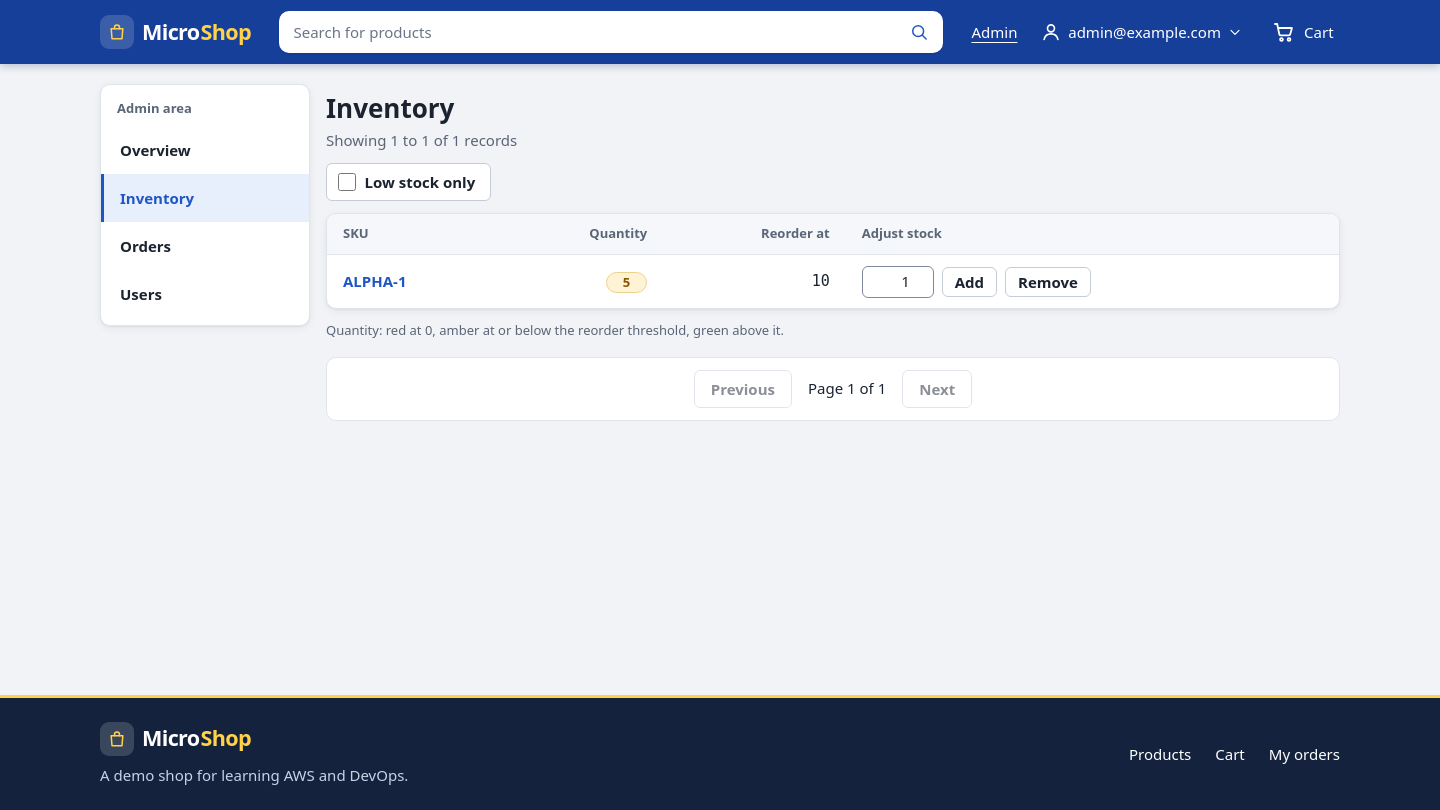
Test case: App routes for login › after a 401 on a change: forgets the login, shows the login page, then returns to the page after logging in again
The width and height of the screenshot is (1440, 810).
Click the button "Add" at (969, 282), box [942,267,997,297]
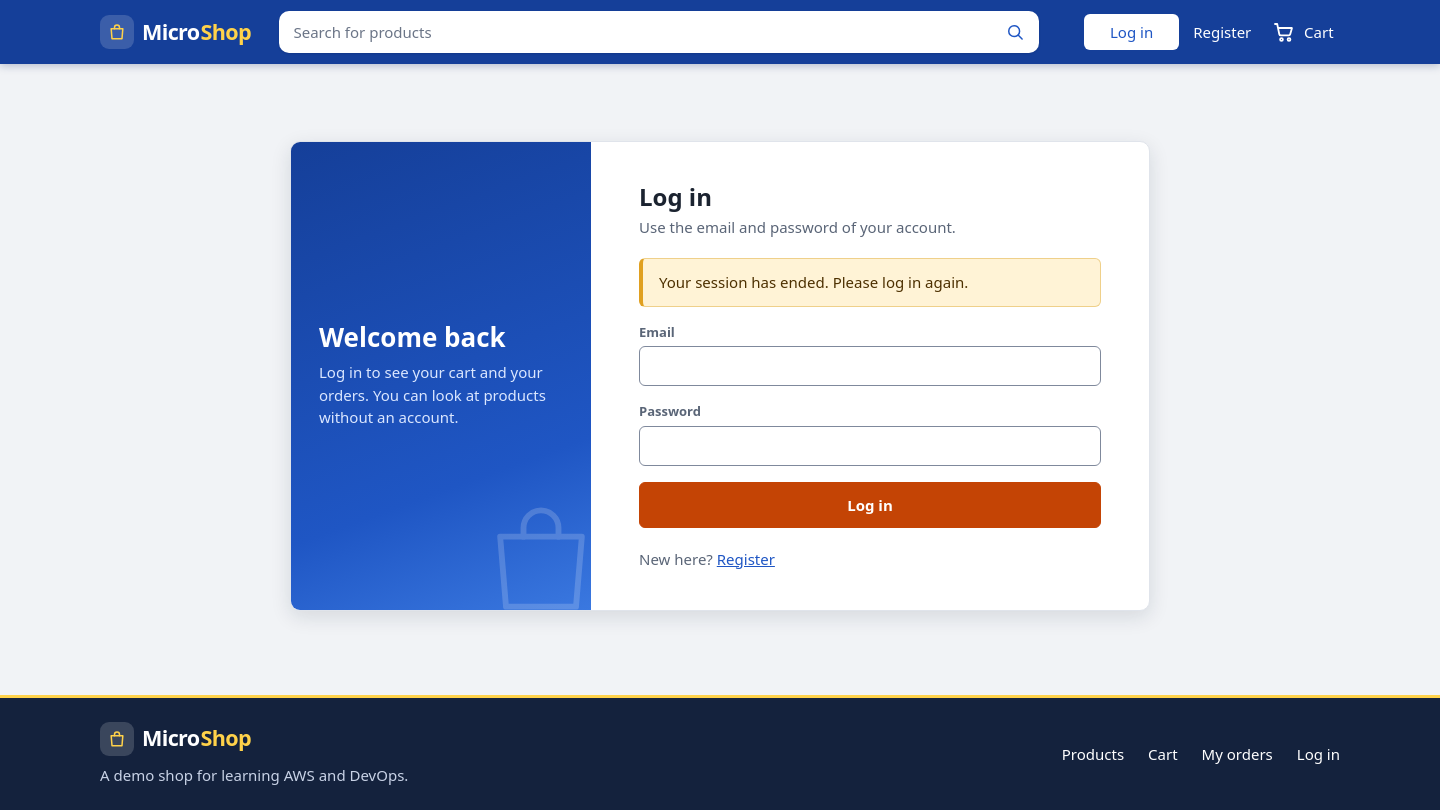
Now the heading "Log in" is shown, box [639,180,712,213]
Now the message reads "Your session has ended. Please log in again.", box [659,272,968,292]
Now the 1st link "Log in" is shown, box [1084,14,1179,50]
Type "admin@example.com" into the field labelled "Email" at (870, 366), box [639,346,1101,386]
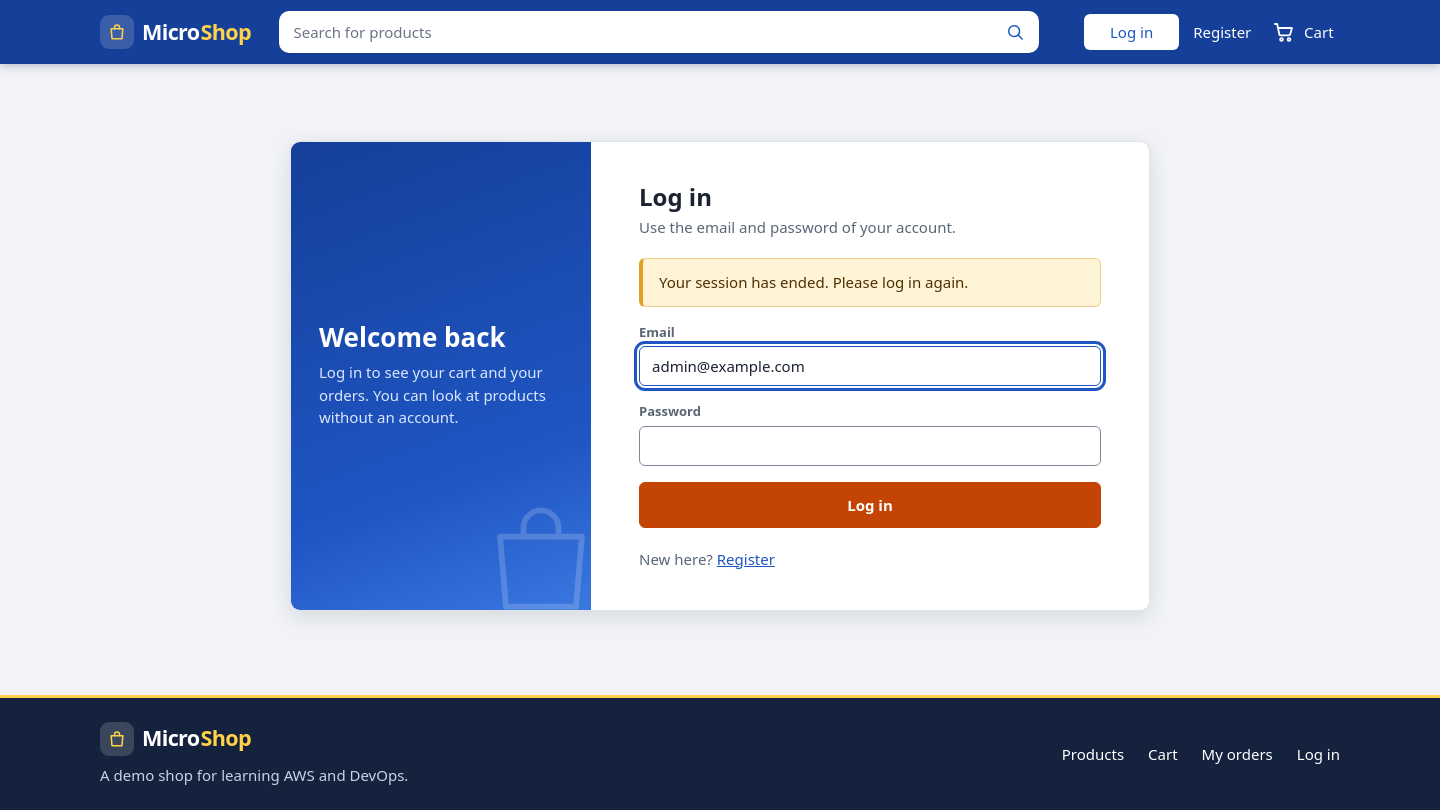
Type "admin12345" into the password field labelled "Password" at (870, 446), box [639,426,1101,466]
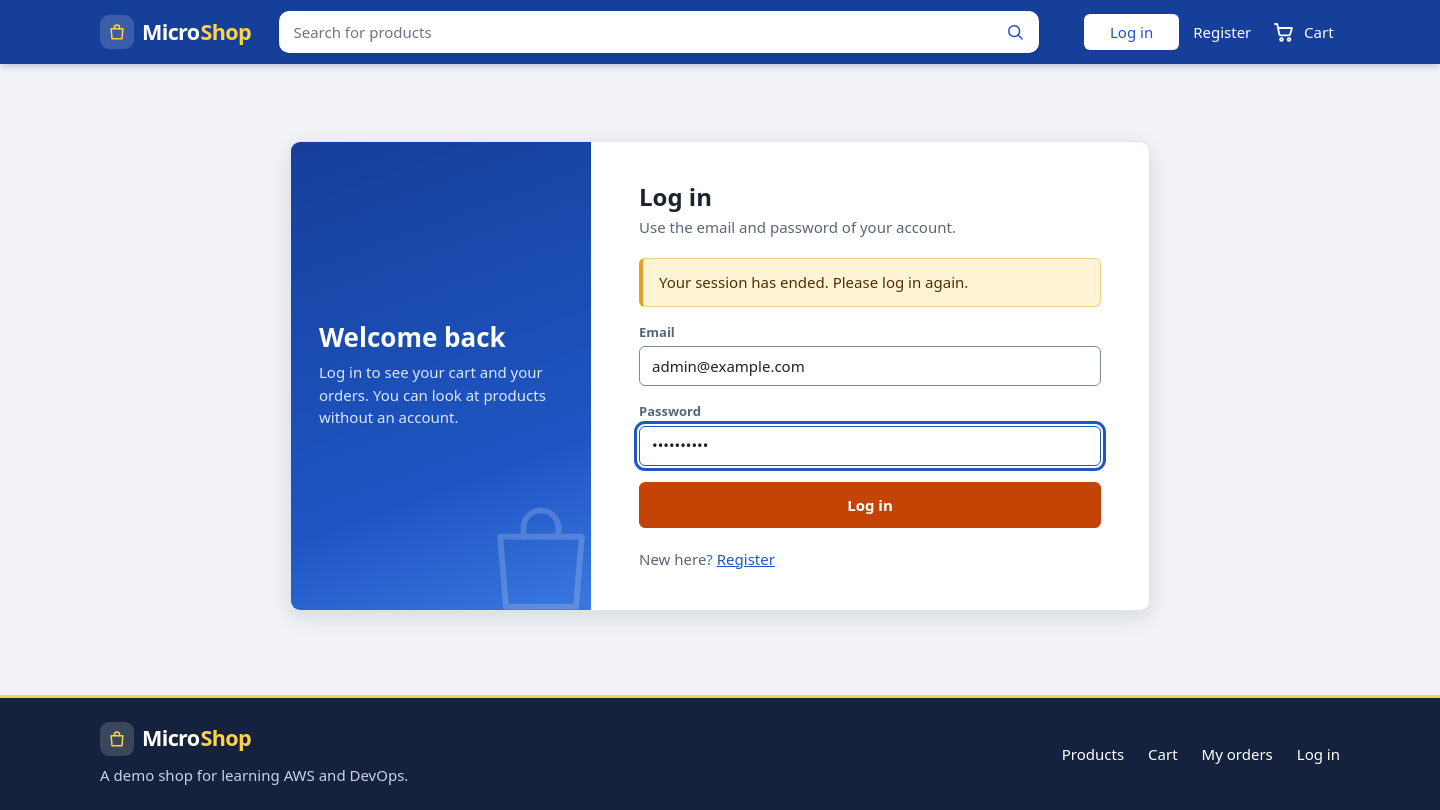
Click the button "Log in" at (870, 505), box [639,482,1101,528]
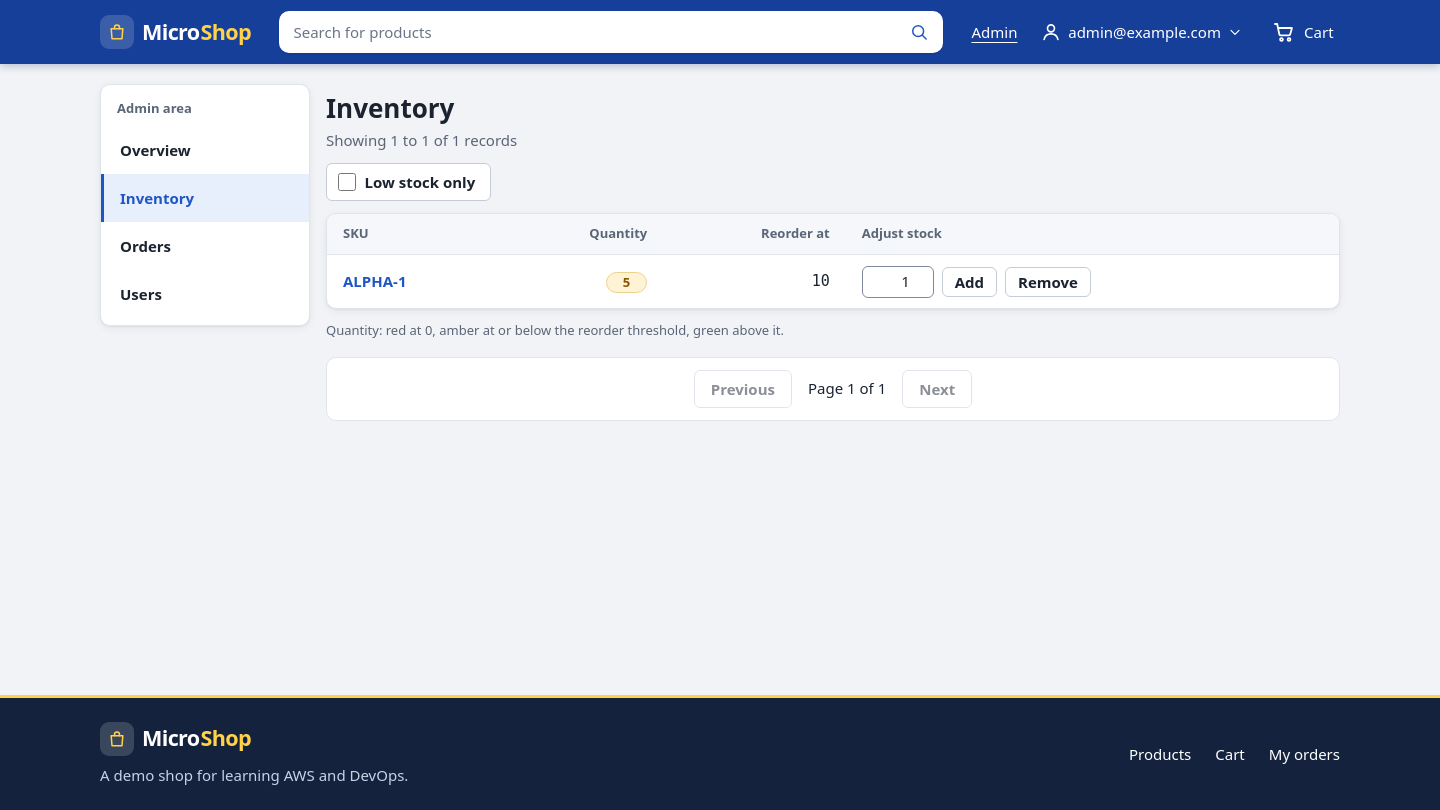
Now the heading "Inventory" is shown, box [326,90,454,126]
Now the text "admin@example.com" is shown, box [1068,21,1221,43]
